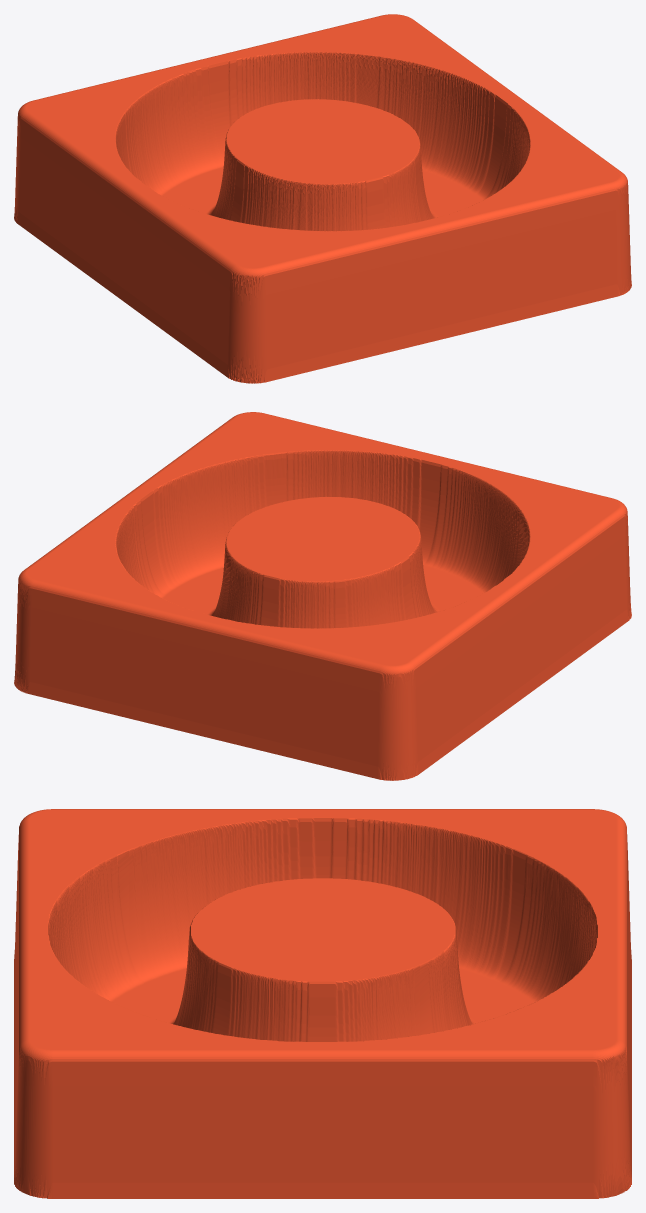
File: mold.glb
3 views of the same model, one above another, from view 1: azimuth 30°, elevation 25°; view 2: azimuth 150°, elevation 25°; view 3: azimuth 270°, elevation 25° (orthographic). The views are drawn at different scales.
Visible parts, largest first — view 1: geometry_0; view 2: geometry_0; view 3: geometry_0.
Part boxes in pixels (x1=…): geometry_0: x1=14, y1=14, x2=631, y2=383; geometry_0: x1=14, y1=412, x2=631, y2=780; geometry_0: x1=14, y1=809, x2=631, y2=1198.
Bounding box in the file's own units: 0.1389 × 0.0365 × 0.1435.
